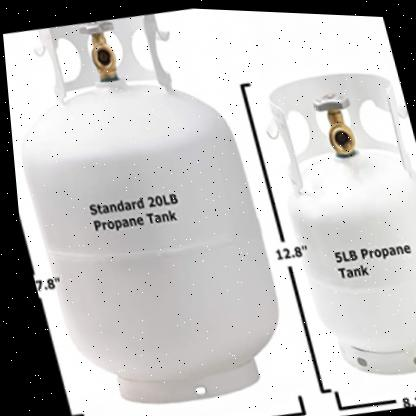gas-tank: (0, 0, 310, 415), (234, 38, 415, 392)
